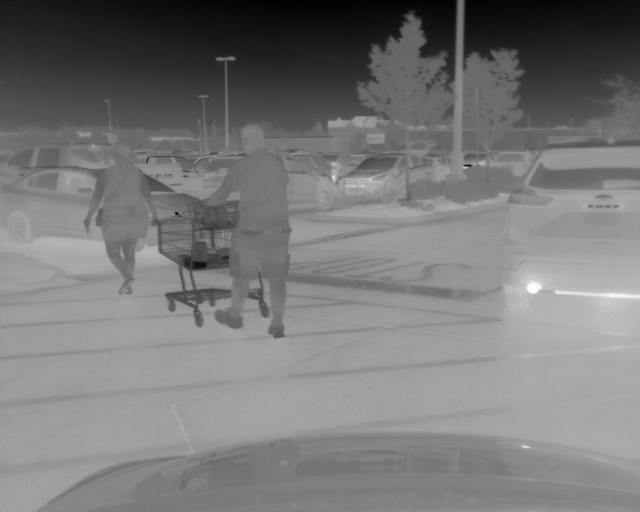car: (503, 140, 640, 314), (2, 167, 208, 251), (199, 153, 337, 209), (335, 151, 443, 202), (3, 143, 114, 181), (495, 149, 537, 178), (461, 148, 490, 173)
people: (202, 123, 292, 339), (82, 143, 154, 294)
